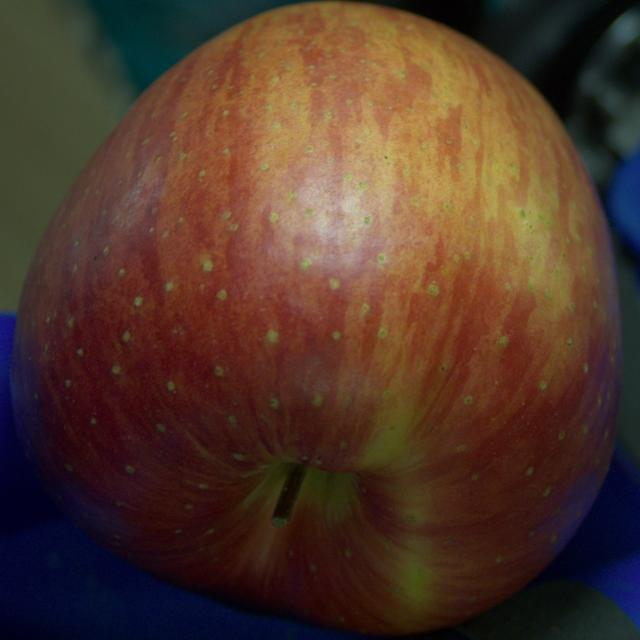apple: (11, 2, 621, 634)
